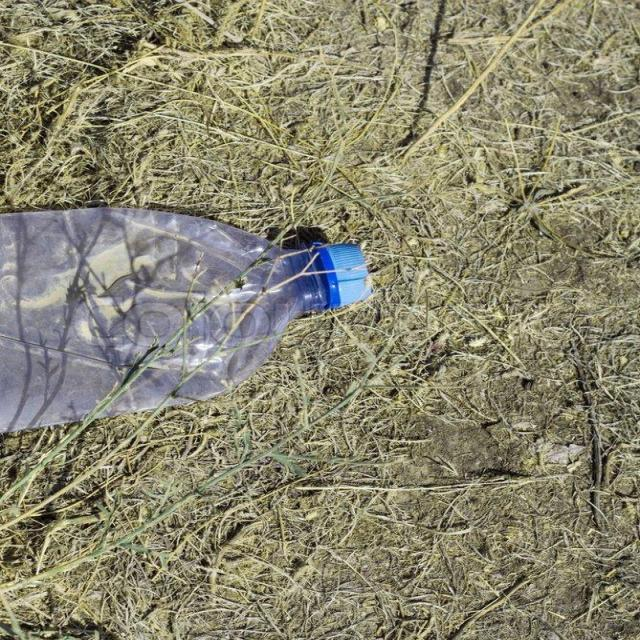bottle: (0, 175, 391, 452)
